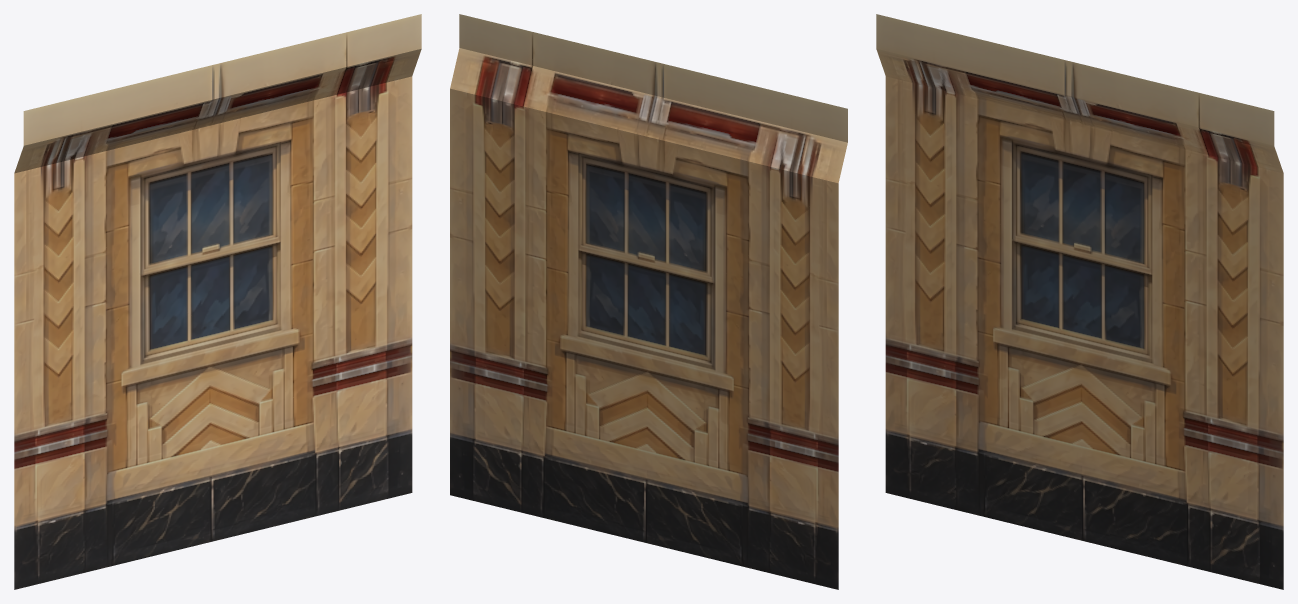
The model's file is DECO_U_Bay3A.fbx.
The picture shows the model from 3 angles, left to right: view 1: azimuth 30°, elevation 25°; view 2: azimuth 150°, elevation 25°; view 3: azimuth 330°, elevation 25°; orthographic projection. The views are drawn at different scales.
Visible parts, largest first — view 1: DECO_U_Bay3A; view 2: DECO_U_Bay3A; view 3: DECO_U_Bay3A.
Boxes of the visible parts, box(x1,y1,x2,y2) form: DECO_U_Bay3A: box(14, 14, 421, 589); DECO_U_Bay3A: box(450, 14, 847, 589); DECO_U_Bay3A: box(876, 14, 1283, 589).
Bounding box in the file's own units: 3 × 0.125 × 3.5.
Materials: 1 (1 with a texture image).
